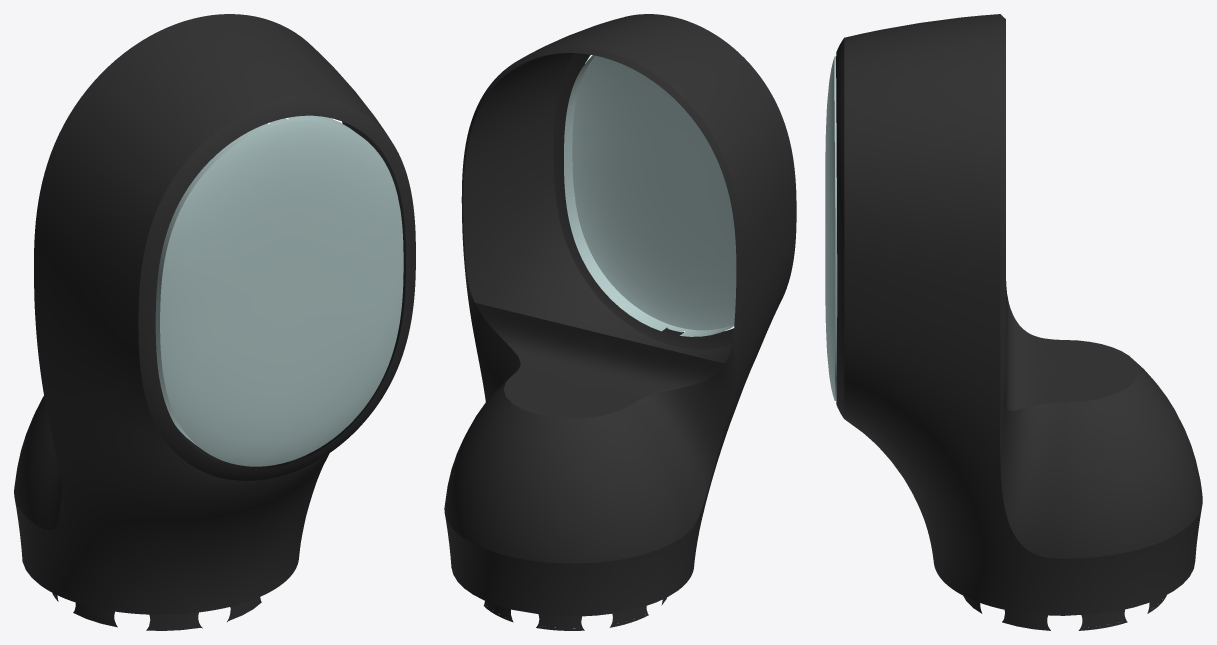
File: right_arm_link4.obj
The picture shows the model from 3 angles, left to right: view 1: azimuth 30°, elevation 25°; view 2: azimuth 150°, elevation 25°; view 3: azimuth 270°, elevation 25°; orthographic projection. The views are drawn at different scales.
Parts seen in each view (by area): view 1: 2.002, 1.003; view 2: 2.002, 1.003; view 3: 2.002, 1.003.
Part boxes in pixels (x1,y1,x2,y2): 2.002: (14, 14, 415, 630); 1.003: (155, 115, 403, 466); 2.002: (444, 14, 796, 630); 1.003: (564, 55, 736, 336); 2.002: (836, 14, 1202, 630); 1.003: (825, 56, 837, 400).
Size of the model in its own units: 0.0944 by 0.1665 by 0.102.
